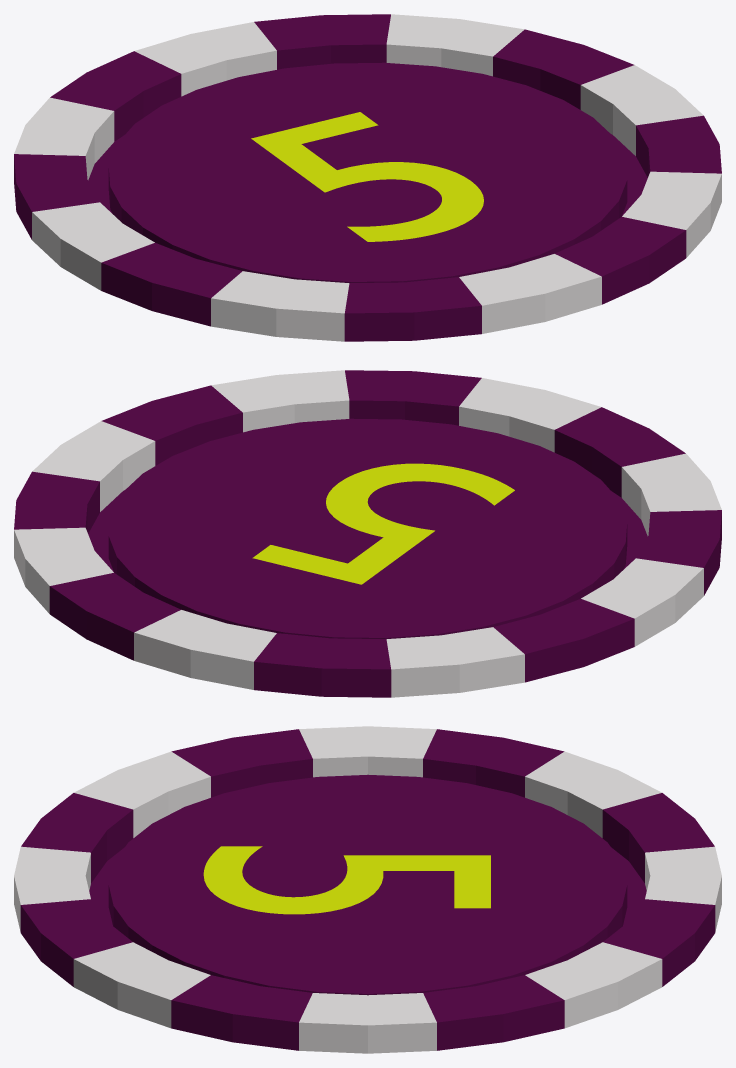
3 views of the same model, one above another, from view 1: azimuth 30°, elevation 25°; view 2: azimuth 150°, elevation 25°; view 3: azimuth 270°, elevation 25° (orthographic).
Parts seen in each view (by area): view 1: Cylinder, tekst; view 2: Cylinder, tekst; view 3: Cylinder, tekst.
Boxes of the visible parts, x1,y1,x2,y2 form: Cylinder: (14, 14, 721, 341); tekst: (251, 112, 483, 241); Cylinder: (14, 370, 721, 697); tekst: (252, 463, 514, 584); Cylinder: (14, 726, 721, 1053); tekst: (203, 846, 490, 914).
Bounding box in the file's own units: 1.33 × 0.0642 × 1.33.
